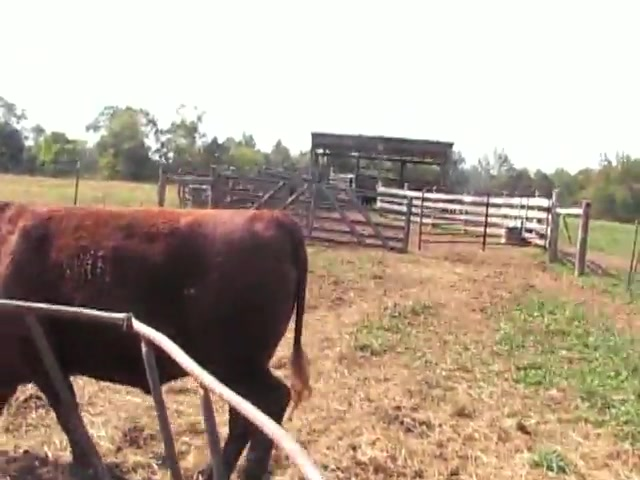cow: (1, 202, 315, 480)
